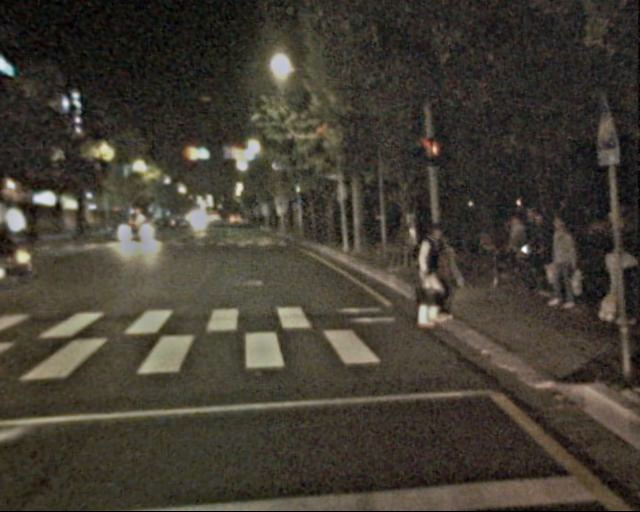person: (506, 209, 561, 295), (412, 225, 456, 332), (596, 231, 637, 330), (547, 215, 586, 309)
